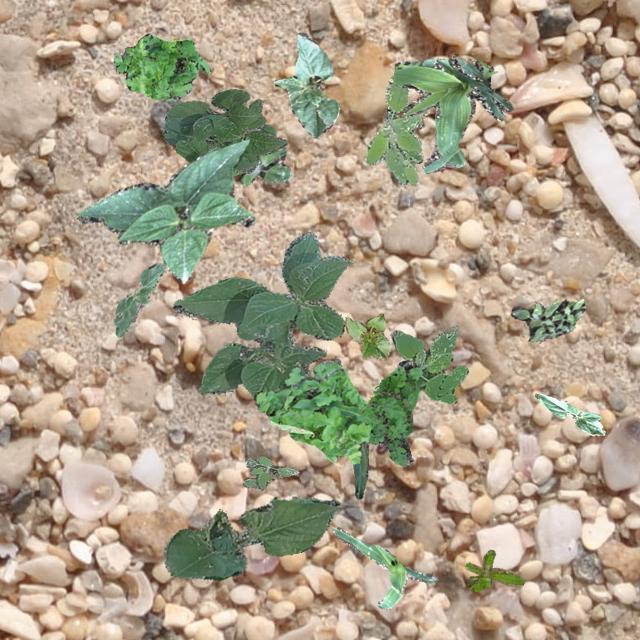crop: (172, 230, 352, 397), (75, 138, 254, 282), (162, 496, 338, 580), (392, 58, 512, 172), (162, 89, 286, 172), (332, 526, 436, 608), (272, 31, 338, 138), (332, 358, 368, 498), (112, 262, 164, 336), (534, 392, 604, 434), (344, 312, 389, 358)
weed: (252, 358, 370, 464), (364, 74, 428, 184), (358, 360, 421, 466), (113, 32, 210, 100), (390, 325, 468, 403), (510, 298, 584, 340), (240, 124, 290, 184), (464, 548, 522, 590), (242, 456, 298, 490)
